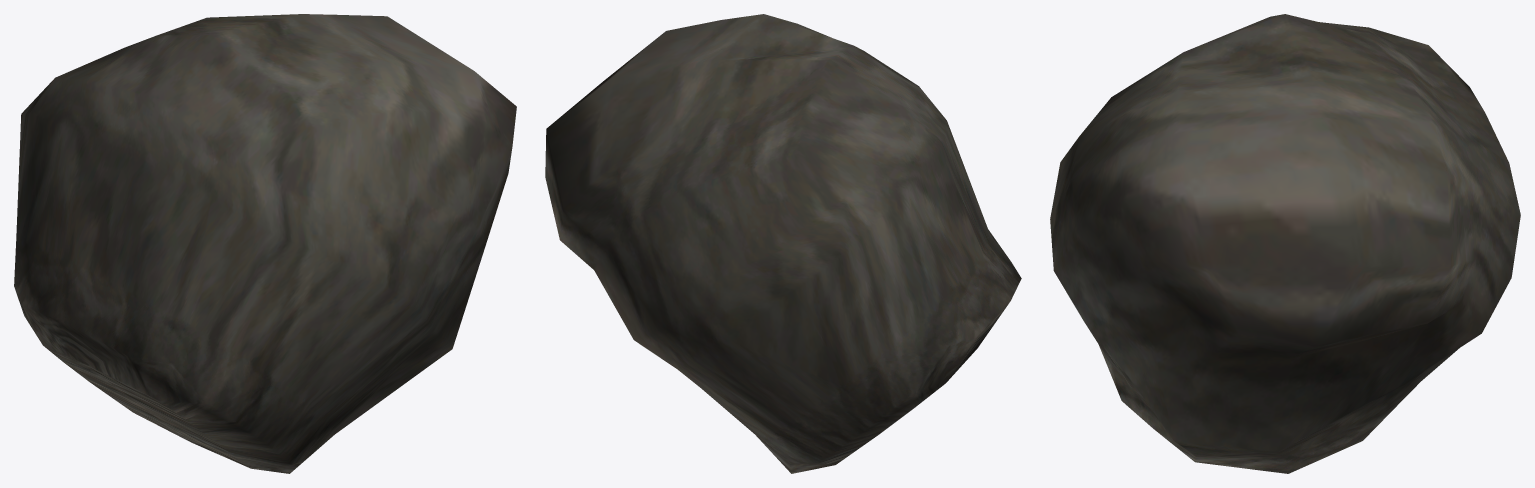
The model's file is Stone5Shape.dae.
3 renders of one model, left to right at view 1: azimuth 30°, elevation 25°; view 2: azimuth 150°, elevation 25°; view 3: azimuth 270°, elevation 25°, orthographic. The views are drawn at different scales.
Visible parts, largest first — view 1: Stone5; view 2: Stone5; view 3: Stone5.
Boxes of the visible parts, x1=… form: Stone5: x1=14, y1=14, x2=516, y2=473; Stone5: x1=545, y1=14, x2=1021, y2=473; Stone5: x1=1050, y1=14, x2=1520, y2=473.
Bounding box in the file's own units: 7.67 × 6.88 × 6.62.
